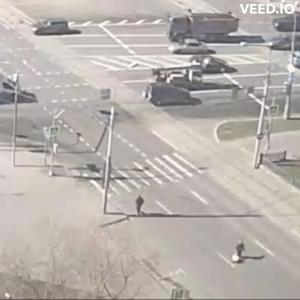car: (170, 11, 236, 42), (151, 85, 203, 109), (152, 67, 209, 87), (34, 22, 77, 40), (170, 39, 212, 56), (191, 57, 230, 73), (268, 37, 300, 51), (274, 18, 300, 33)
